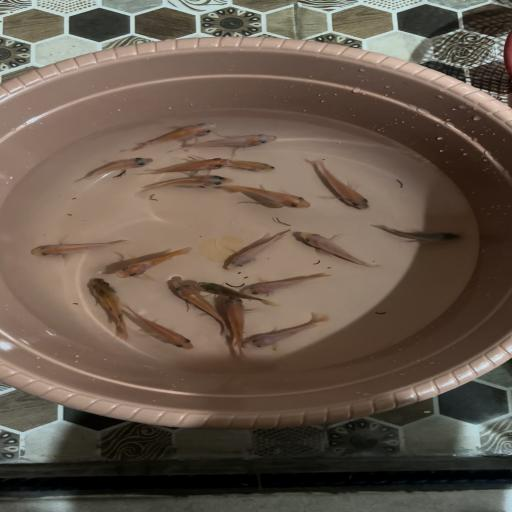nila: (164, 279, 235, 338), (122, 300, 200, 352), (308, 156, 377, 213), (243, 309, 333, 352), (214, 295, 268, 365), (294, 230, 383, 270), (220, 227, 294, 274), (84, 277, 138, 341), (120, 121, 218, 153), (241, 266, 338, 298), (163, 131, 281, 157), (212, 184, 319, 212), (126, 173, 236, 200), (113, 245, 196, 279), (24, 233, 128, 260), (71, 155, 156, 185), (198, 278, 278, 308), (369, 222, 468, 246), (132, 155, 232, 177), (226, 155, 282, 175)
